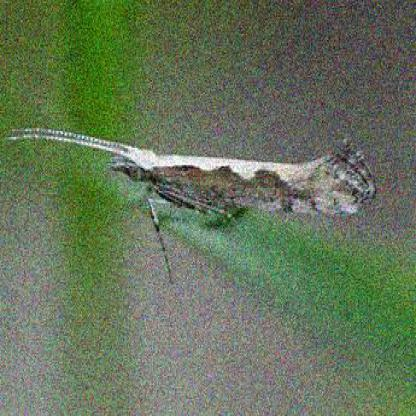plutella: (1, 125, 381, 290)
